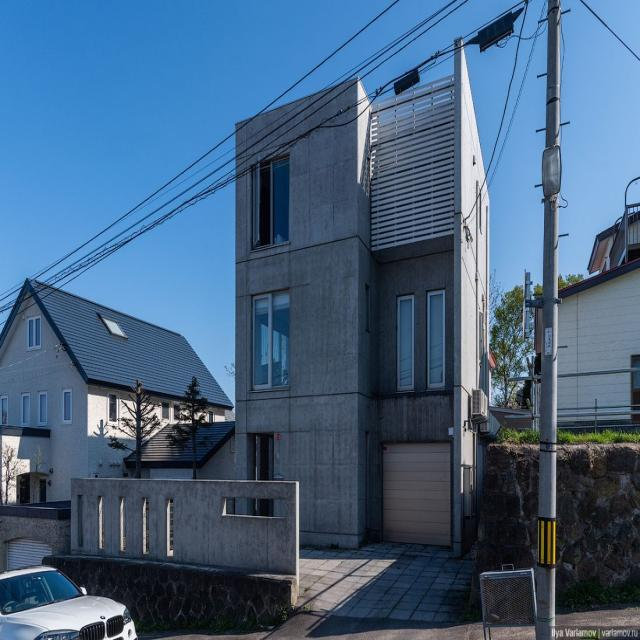window: (249, 296, 293, 385), (251, 159, 292, 247), (425, 294, 449, 402), (393, 294, 417, 394), (26, 319, 44, 349), (36, 392, 47, 435), (20, 396, 32, 431), (60, 389, 70, 426)
